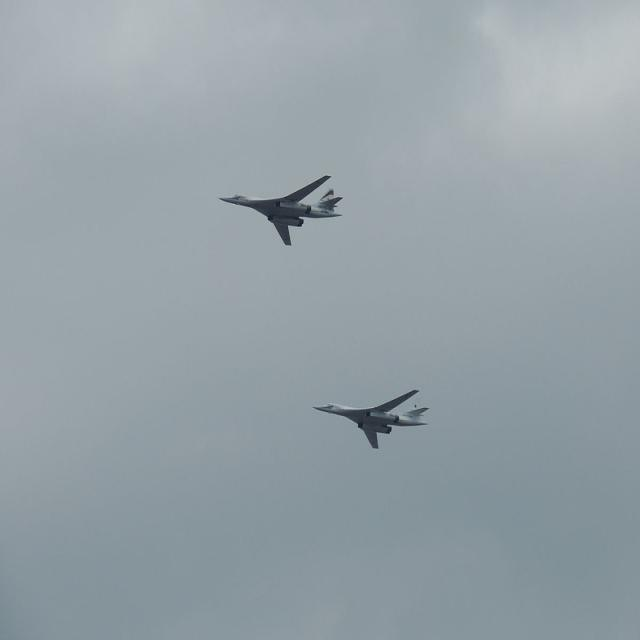MIL_Plane: (218, 169, 344, 239), (312, 389, 430, 448)
